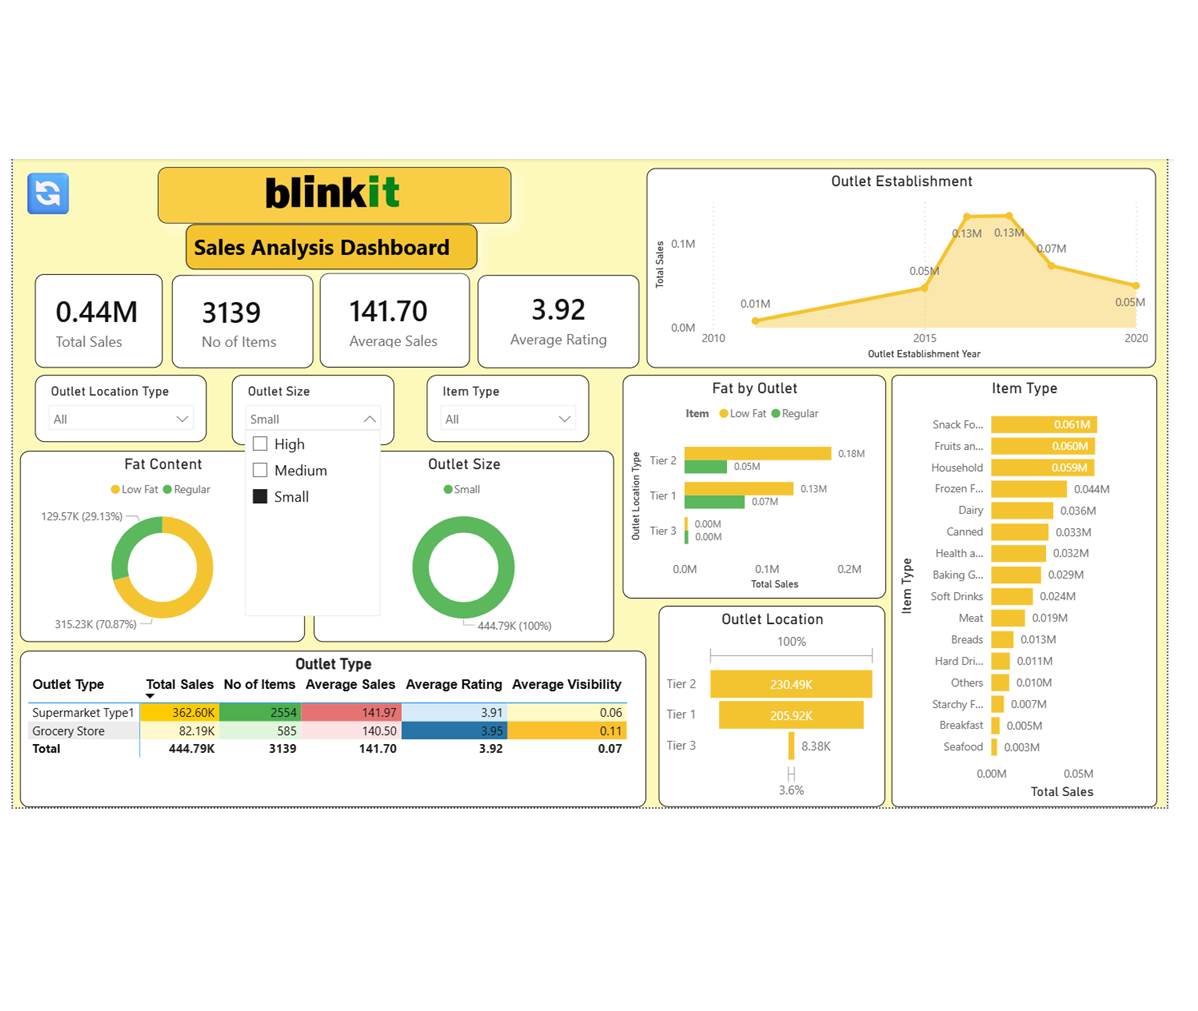

This screenshot's page, from the dashboard's own definition file:
{"tool":"powerbi","page":{"name":"Page 1","canvas":[1280,720],"ordinal":0},"visuals":[{"type":"cardVisual","fields":{"Data":["BlinkIT Grocery Data.Total Sales"]},"box":[24.4,128.6,141.9,104.2],"z":0},{"type":"cardVisual","fields":{"Data":["BlinkIT Grocery Data.Average Sales"]},"box":[340.7,127.9,166.3,104.7],"z":1000},{"type":"cardVisual","fields":{"Data":["BlinkIT Grocery Data.Average Rating"]},"box":[515.1,130.2,179.1,103.5],"z":2000},{"type":"cardVisual","fields":{"Data":["BlinkIT Grocery Data.No of Items"]},"box":[176.7,130.2,157,103.5],"z":3000},{"type":"slicer","fields":{"Values":["BlinkIT Grocery Data.Outlet Location Type"]},"box":[24.4,240.7,190.7,74.4],"z":4000},{"type":"slicer","fields":{"Values":["BlinkIT Grocery Data.Outlet Size"]},"box":[243,240.7,180.2,77.9],"z":5000},{"type":"slicer","fields":{"Values":["BlinkIT Grocery Data.Item Type"]},"box":[459.3,240.7,180.2,74.4],"z":6000},{"type":"areaChart","title":"Outlet Establishment","fields":{"Y":["BlinkIT Grocery Data.Total Sales"],"Category":["BlinkIT Grocery Data.Outlet Establishment Year"]},"box":[702.6,11.1,564.9,221.2],"z":7000},{"type":"donutChart","title":"Fat Content","fields":{"Category":["BlinkIT Grocery Data.Item Fat Content"],"Y":["BlinkIT Grocery Data.Total Sales"]},"box":[8.1,324.4,316.3,211.6],"z":8000},{"type":"clusteredBarChart","title":"Item Type","fields":{"Y":["BlinkIT Grocery Data.Total Sales"],"Category":["BlinkIT Grocery Data.Item Type"]},"box":[974.4,240.7,294.2,479.1],"z":9000},{"type":"donutChart","title":"Outlet Size","fields":{"Y":["BlinkIT Grocery Data.Total Sales"],"Category":["BlinkIT Grocery Data.Outlet Size"]},"box":[333.7,324.4,332.6,211.6],"z":10000},{"type":"funnel","title":"Outlet Location","fields":{"Category":["BlinkIT Grocery Data.Outlet Location Type"],"Y":["BlinkIT Grocery Data.Total Sales"]},"box":[716.3,496.5,251.2,223.3],"z":11000},{"type":"clusteredBarChart","title":"Fat by Outlet","fields":{"Category":["BlinkIT Grocery Data.Outlet Location Type"],"Y":["BlinkIT Grocery Data.Total Sales"],"Series":["BlinkIT Grocery Data.Item Fat Content"]},"box":[675.6,240.7,291.9,247.7],"z":12000},{"type":"pivotTable","title":"Outlet Type","fields":{"Rows":["BlinkIT Grocery Data.Outlet Type"],"Values":["BlinkIT Grocery Data.Total Sales","BlinkIT Grocery Data.No of Items","BlinkIT Grocery Data.Average Sales","BlinkIT Grocery Data.Average Rating","BlinkIT Grocery Data.Average Visibility"]},"box":[8.1,546.5,694.2,173.3],"z":13000},{"type":"image","box":[160.5,10.5,391.9,62.8],"z":14000},{"type":"textbox","box":[191.9,73.3,323.3,50],"z":15000},{"type":"actionButton","box":[0,0,77.9,73.7],"z":15001}]}

Visuals, with their boxes in screenshot pixels (x1, y1, x2, y2):
cardVisual - BlinkIT Grocery Data.Total Sales: Rect(44, 277, 170, 369)
cardVisual - BlinkIT Grocery Data.Average Sales: Rect(325, 276, 473, 369)
cardVisual - BlinkIT Grocery Data.Average Rating: Rect(480, 278, 640, 370)
cardVisual - BlinkIT Grocery Data.No of Items: Rect(179, 278, 319, 370)
slicer - BlinkIT Grocery Data.Outlet Location Type: Rect(44, 377, 213, 443)
slicer - BlinkIT Grocery Data.Outlet Size: Rect(238, 377, 399, 446)
slicer - BlinkIT Grocery Data.Item Type: Rect(431, 377, 591, 443)
"Outlet Establishment" areaChart: Rect(647, 172, 1150, 369)
"Fat Content" donutChart: Rect(29, 451, 311, 639)
"Item Type" clusteredBarChart: Rect(889, 377, 1151, 803)
"Outlet Size" donutChart: Rect(319, 451, 615, 639)
"Outlet Location" funnel: Rect(660, 604, 883, 803)
"Fat by Outlet" clusteredBarChart: Rect(623, 377, 883, 597)
"Outlet Type" pivotTable: Rect(29, 649, 647, 803)
image: Rect(165, 172, 514, 227)
textbox: Rect(193, 227, 481, 272)
actionButton: Rect(22, 162, 91, 228)
